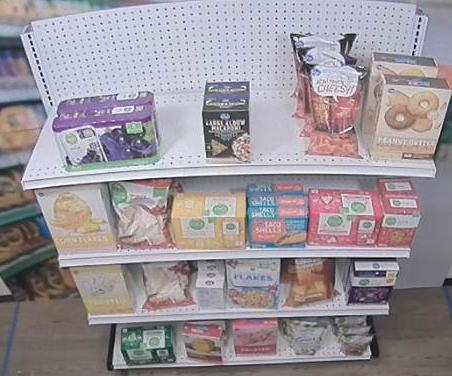stockout: (248, 79, 299, 160), (158, 84, 201, 163), (25, 98, 67, 175)
